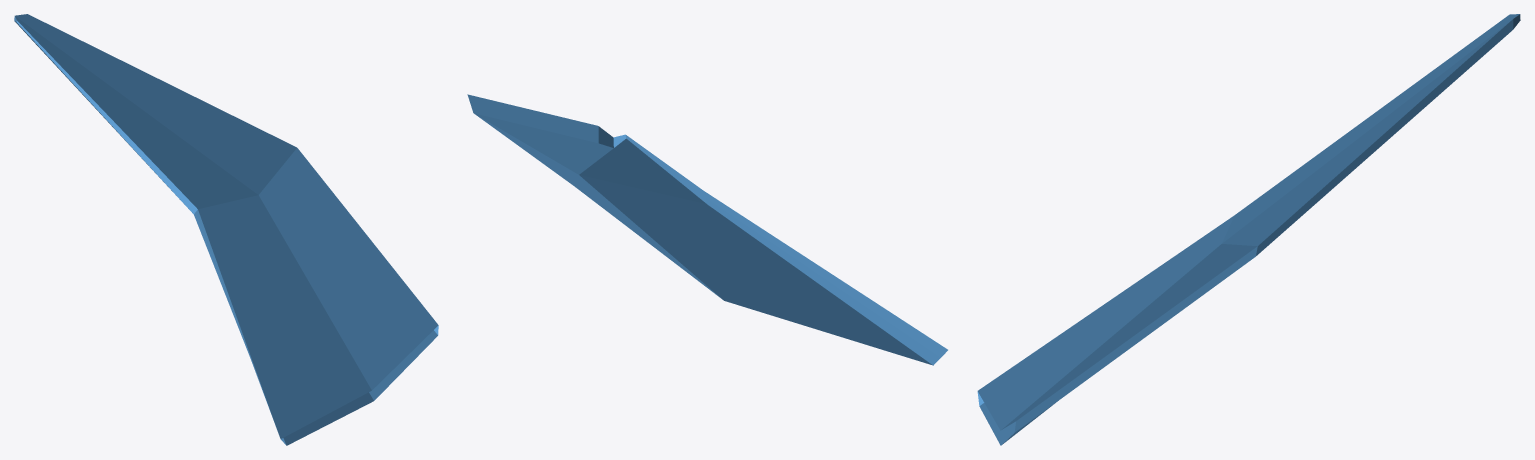
Rendered from bird_ala2.obj.
3 renders of one model, left to right at view 1: azimuth 30°, elevation 25°; view 2: azimuth 150°, elevation 25°; view 3: azimuth 270°, elevation 25°, orthographic. The views are drawn at different scales.
Parts seen in each view (by area): view 1: polySurface30 polySurface23; view 2: polySurface30 polySurface23; view 3: polySurface30 polySurface23.
Part boxes in pixels (left/top/right/bottom): polySurface30 polySurface23: left=14, top=14, right=438, bottom=445; polySurface30 polySurface23: left=467, top=94, right=947, bottom=365; polySurface30 polySurface23: left=977, top=14, right=1520, bottom=445.
Size of the model in its own units: 1.01 by 1.24 by 1.69.
Materials: 1 (1 with a texture image).
